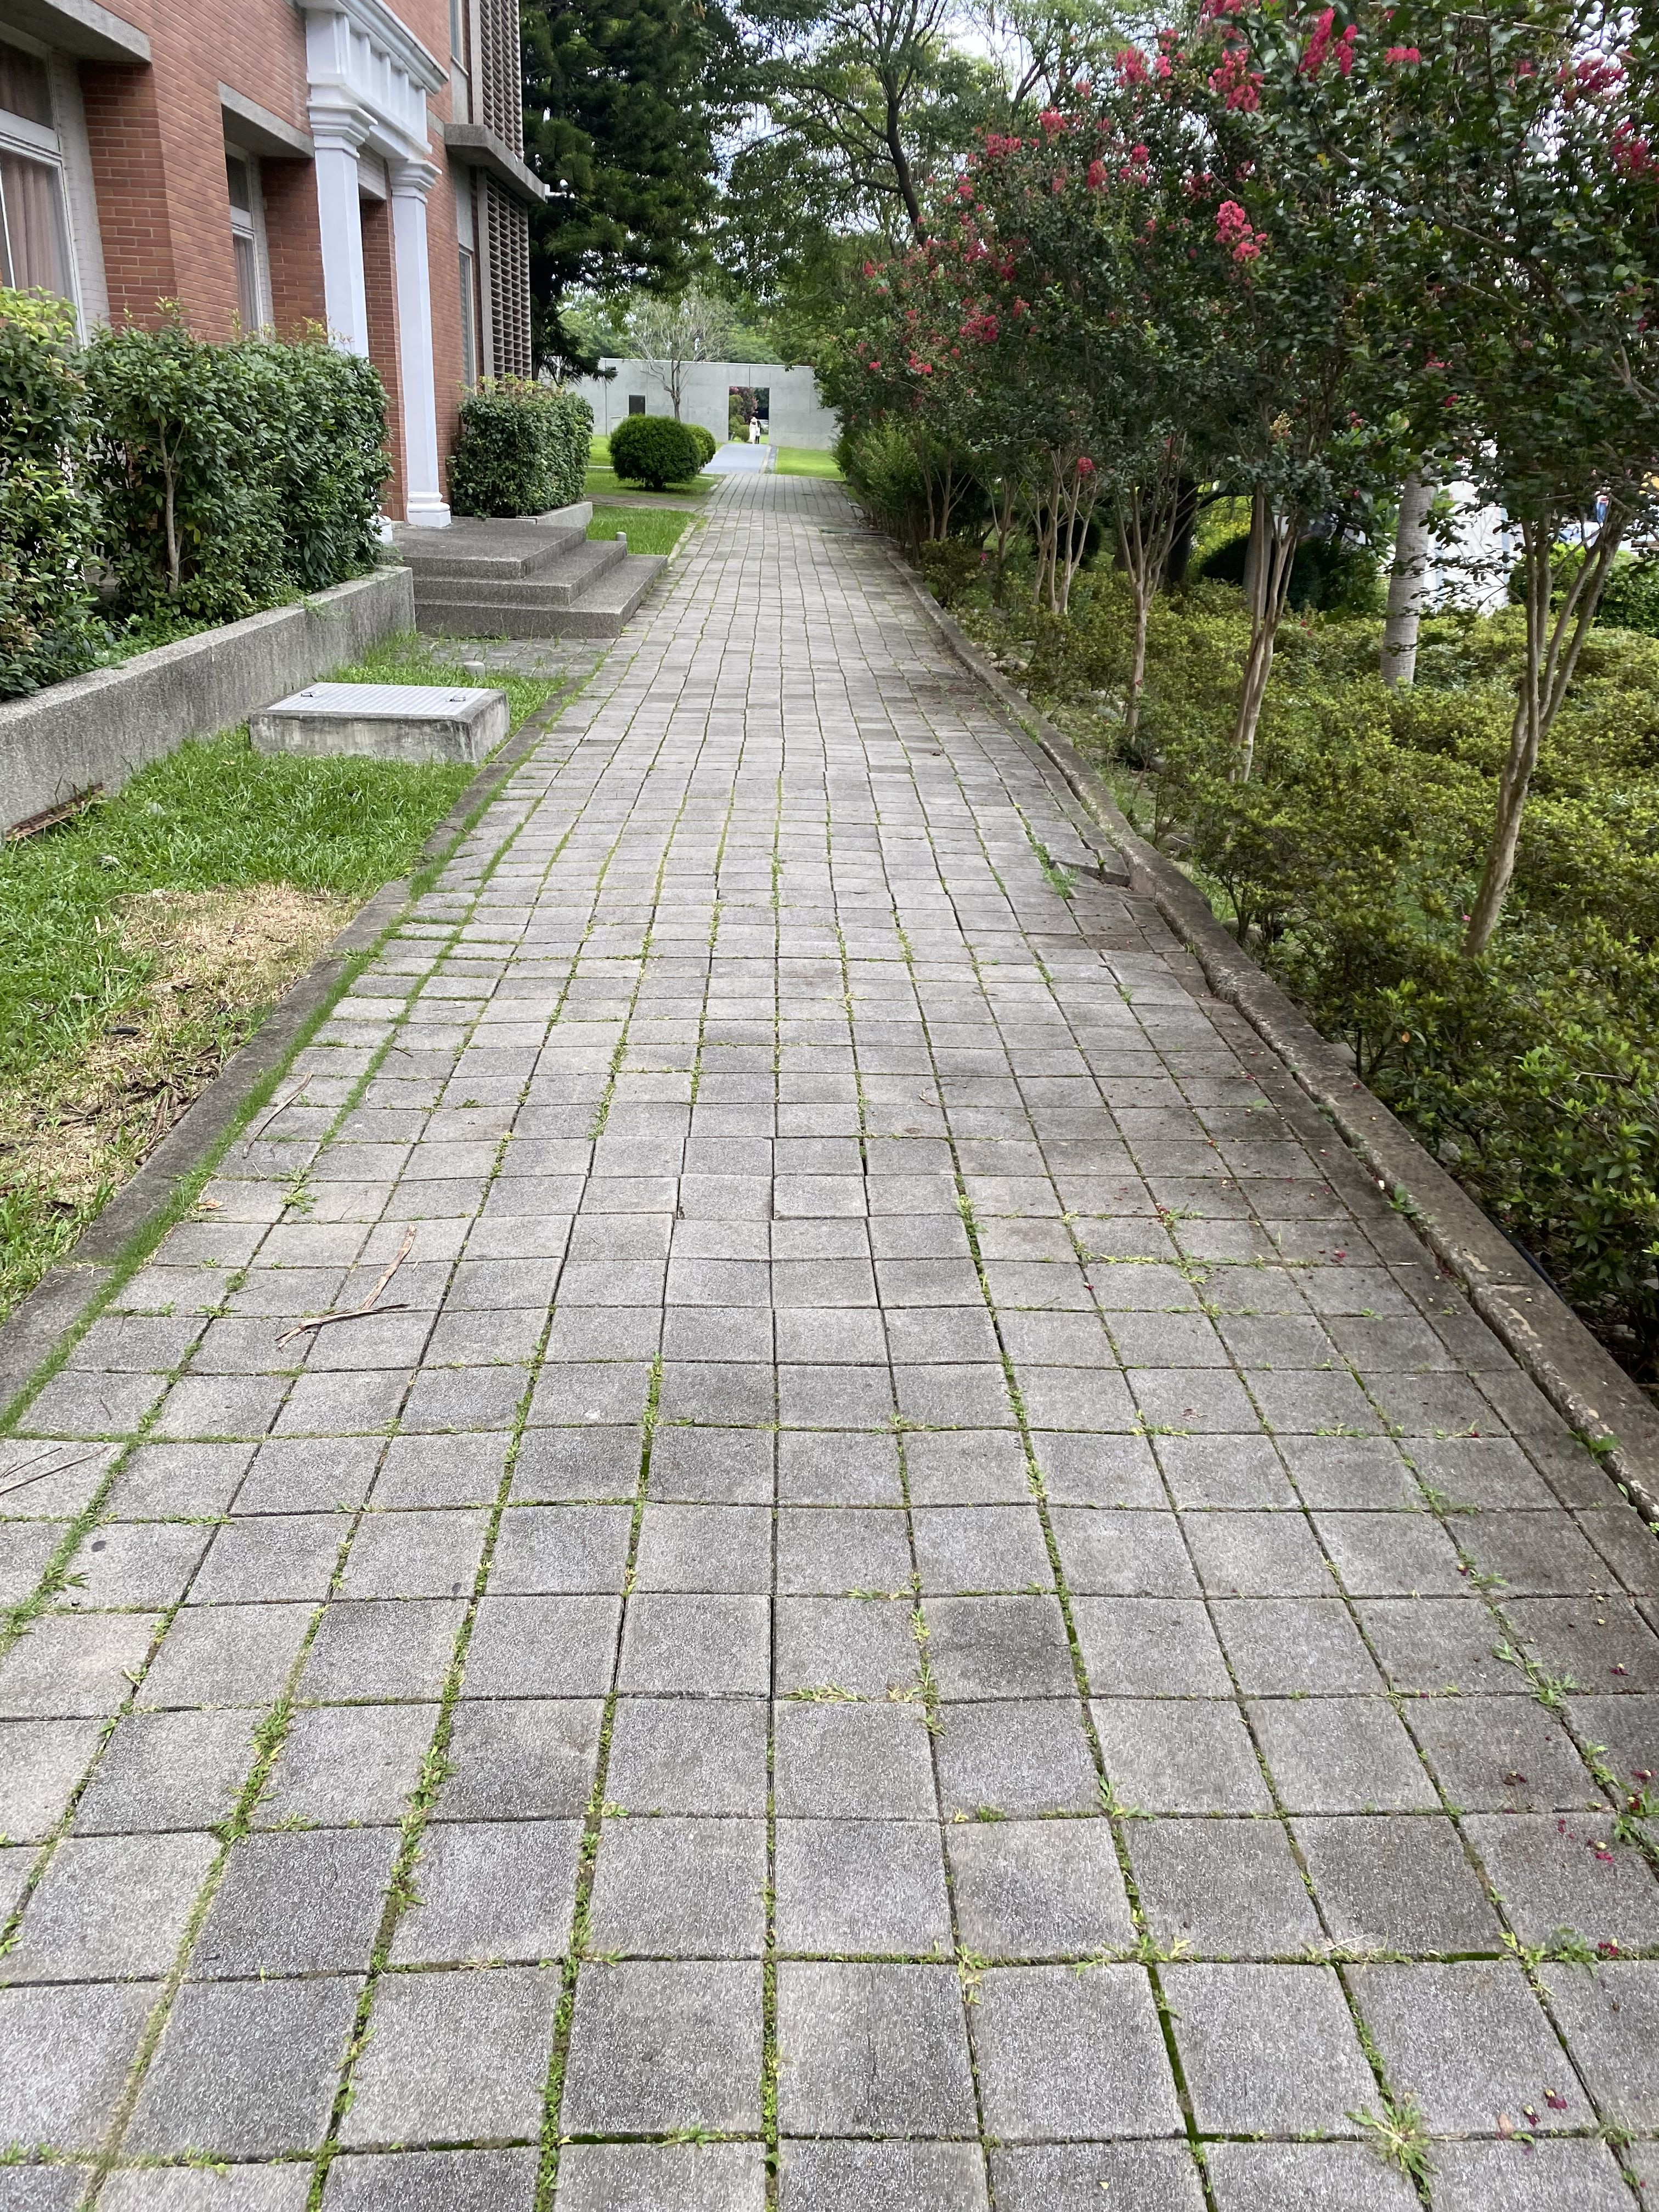0: (12, 634, 716, 2212)
sidewalk: (613, 453, 1657, 2212)
